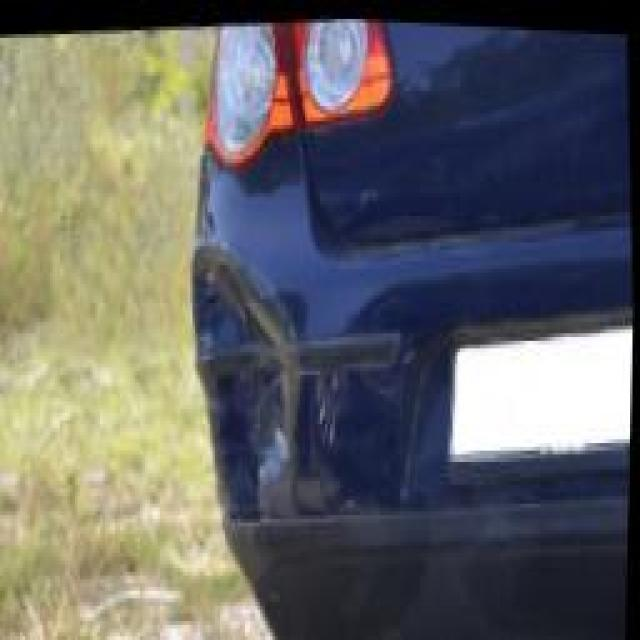Bumper: (190, 197, 316, 513)
